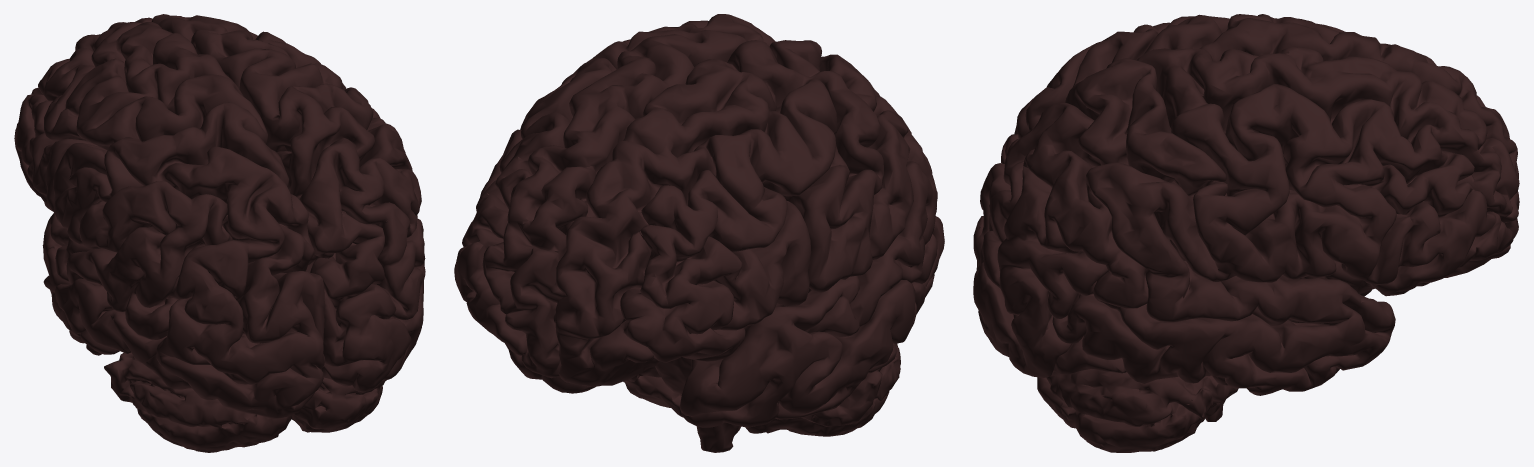
File: cortex.glb
3 views of the same model, side by side, from view 1: azimuth 30°, elevation 25°; view 2: azimuth 150°, elevation 25°; view 3: azimuth 270°, elevation 25° (orthographic). The views are drawn at different scales.
Visible parts, largest first — view 1: Object_2; view 2: Object_2; view 3: Object_2.
Boxes of the visible parts, x1,y1,x2,y2 form: Object_2: [14, 14, 425, 452]; Object_2: [454, 14, 944, 452]; Object_2: [973, 14, 1519, 452].
Size of the model in its own units: 134 by 142 by 182.
